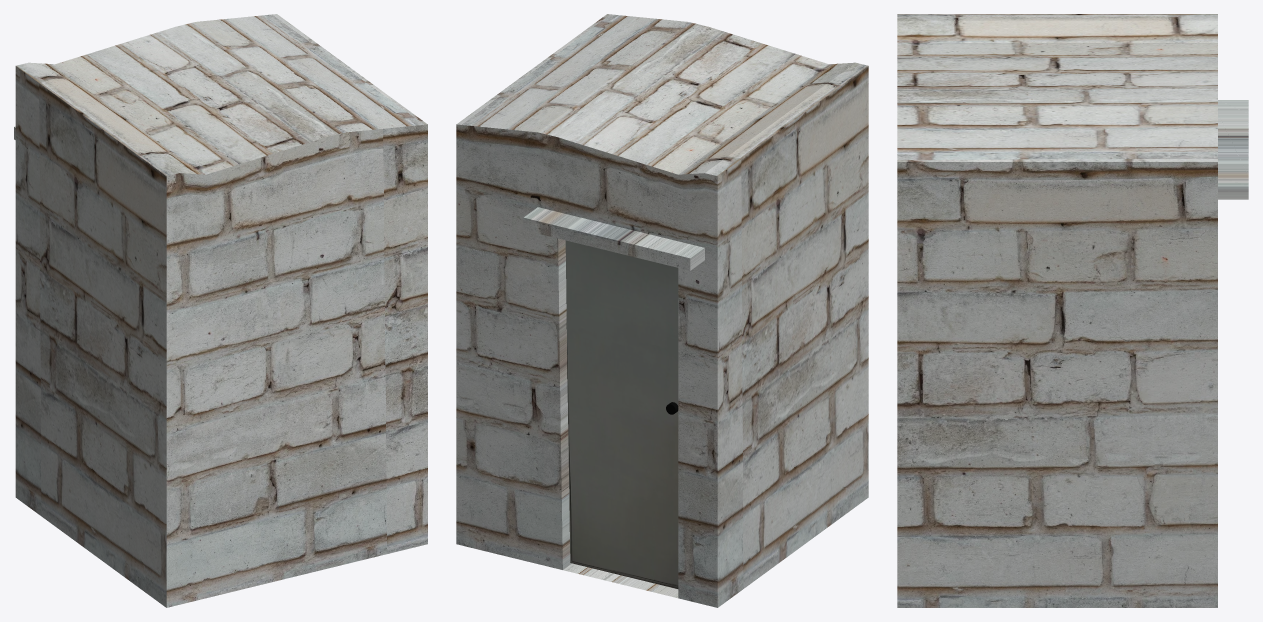
Rendered from PORTE haut immeuble.glb.
3 views of the same model, side by side, from view 1: azimuth 30°, elevation 25°; view 2: azimuth 150°, elevation 25°; view 3: azimuth 270°, elevation 25° (orthographic). The views are drawn at different scales.
Parts seen in each view (by area): view 1: Cube; view 2: Cube, Plane; view 3: Cube.
Boxes of the visible parts, x1,y1,x2,y2 form: Cube: (14,14,427,607); Cube: (456,14,868,607); Plane: (565,240,678,588); Cube: (897,14,1248,607).
Bounding box in the file's own units: 2.14 × 3.38 × 2.35.
Materials: 3 (2 with a texture image).
